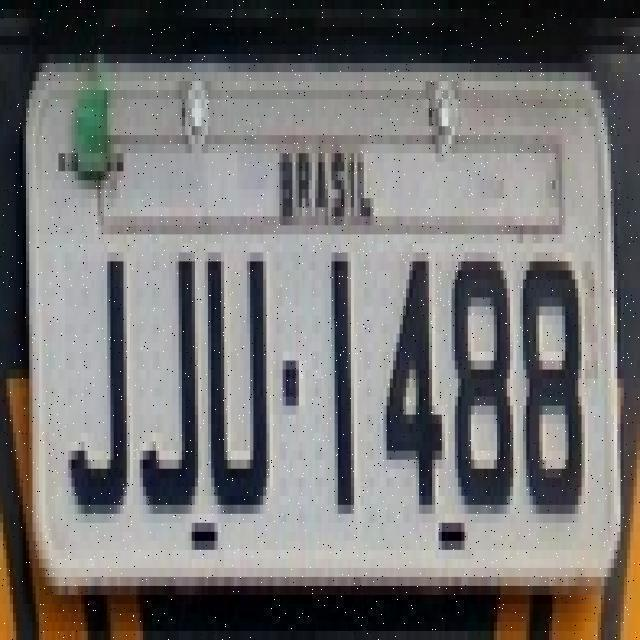License Plate: (16, 44, 624, 596)
